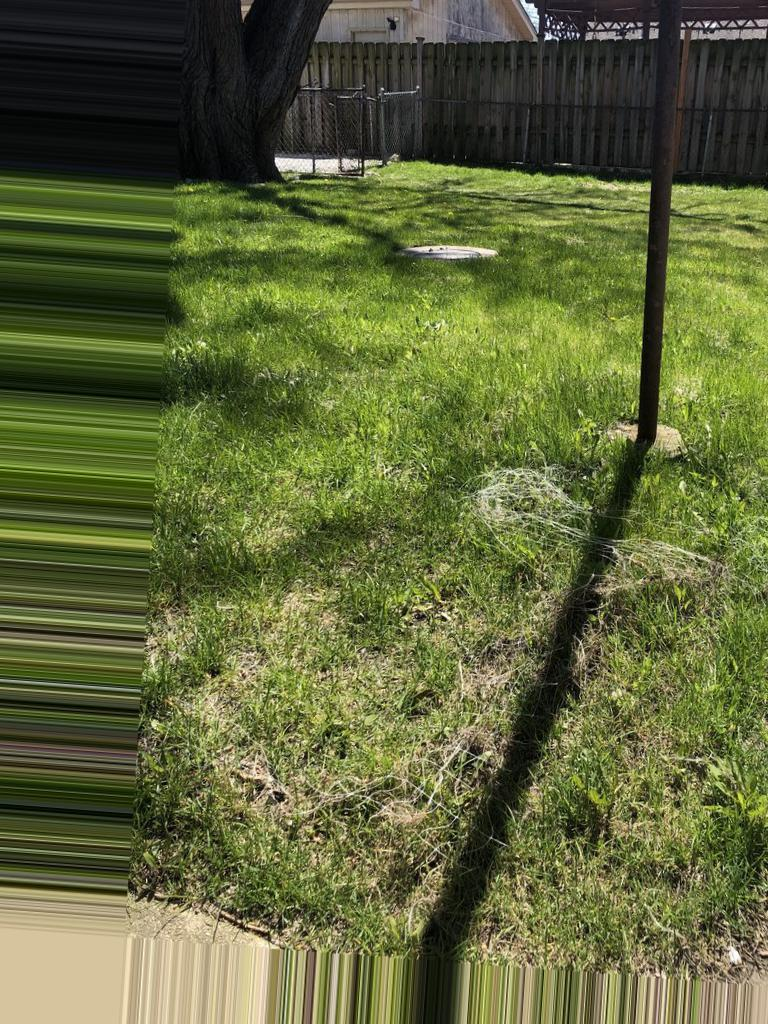patch: (205, 671, 293, 731), (424, 317, 510, 364), (282, 586, 329, 640)
